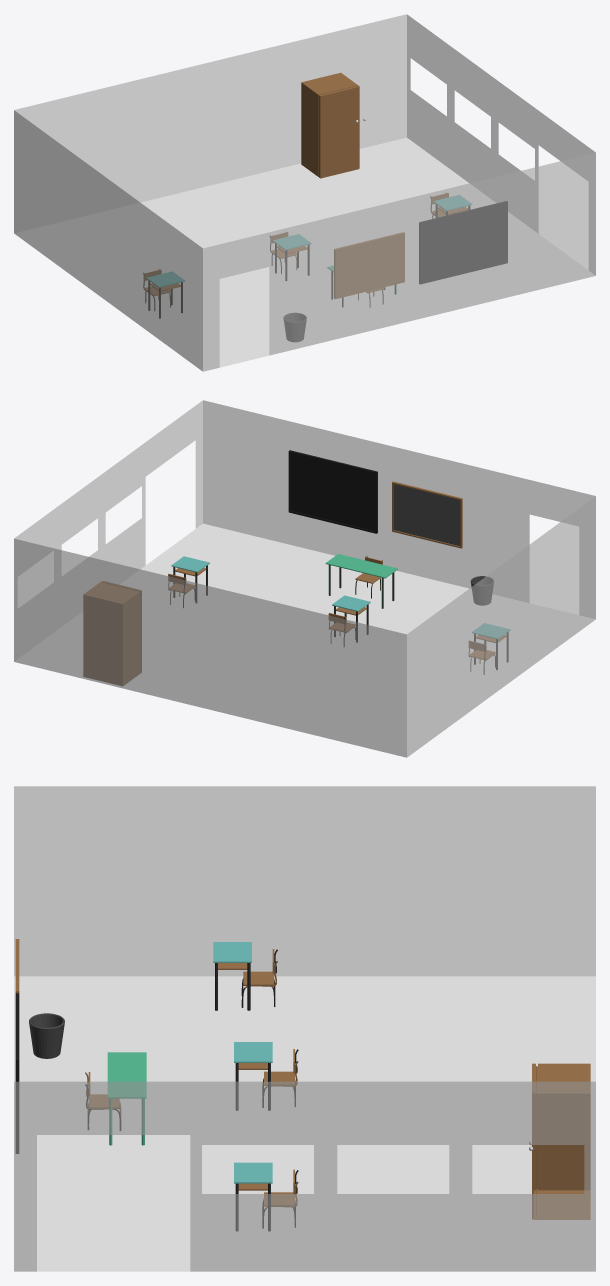
File: SettingAula_1E.gltf
The picture shows the model from 3 angles, top to bottom: view 1: azimuth 30°, elevation 25°; view 2: azimuth 150°, elevation 25°; view 3: azimuth 270°, elevation 25°; orthographic projection. The views are drawn at different scales.
Visible parts, largest first — view 1: Walls, Cube.010, Cube.009, Cube.008, Cube, Cube.004, Cylinder, Cube.006; view 2: Walls, Cube.009, Cube.010, Cube.008, Cube.002, Cube.004, Cube.006, Cube, Cylinder; view 3: Walls, Cube.010, Cube.002, Cylinder, Cube, Cube.006, Cube.004, Cube.001, Cube.005, Cube.009, Cube.007.
Part boxes in pixels (bbox=[...]): Walls: bbox=[14, 14, 595, 371]; Cube.010: bbox=[301, 72, 359, 178]; Cube.009: bbox=[419, 201, 507, 284]; Cube.008: bbox=[334, 232, 404, 298]; Cube: bbox=[146, 271, 184, 318]; Cube.004: bbox=[273, 234, 311, 280]; Cylinder: bbox=[283, 313, 306, 341]; Cube.006: bbox=[433, 195, 471, 217]; Walls: bbox=[14, 400, 595, 757]; Cube.009: bbox=[288, 450, 377, 533]; Cube.010: bbox=[83, 581, 141, 685]; Cube.008: bbox=[392, 481, 462, 548]; Cube.002: bbox=[325, 554, 397, 608]; Cube.004: bbox=[332, 595, 370, 642]; Cube.006: bbox=[171, 556, 209, 603]; Cube: bbox=[472, 623, 510, 669]; Cylinder: bbox=[470, 576, 493, 605]; Walls: bbox=[14, 786, 595, 1271]; Cube.010: bbox=[532, 1063, 590, 1219]; Cube.002: bbox=[107, 1052, 146, 1145]; Cylinder: bbox=[29, 1013, 64, 1058]; Cube: bbox=[213, 942, 251, 1010]; Cube.006: bbox=[234, 1162, 272, 1231]; Cube.004: bbox=[234, 1042, 272, 1110]; Cube.001: bbox=[241, 949, 277, 1007]; Cube.005: bbox=[262, 1049, 298, 1107]; Cube.009: bbox=[15, 993, 19, 1153]; Cube.007: bbox=[262, 1169, 298, 1228].
Size of the model in its own units: 9 by 2.7 by 7.5.
